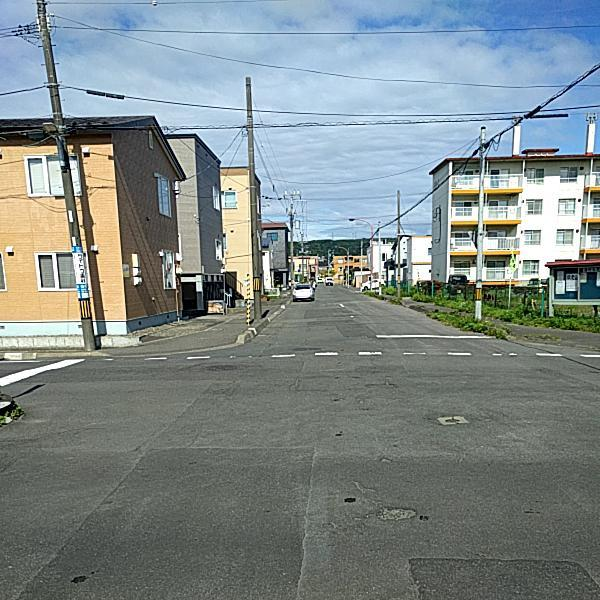D40: (367, 501, 416, 526)
